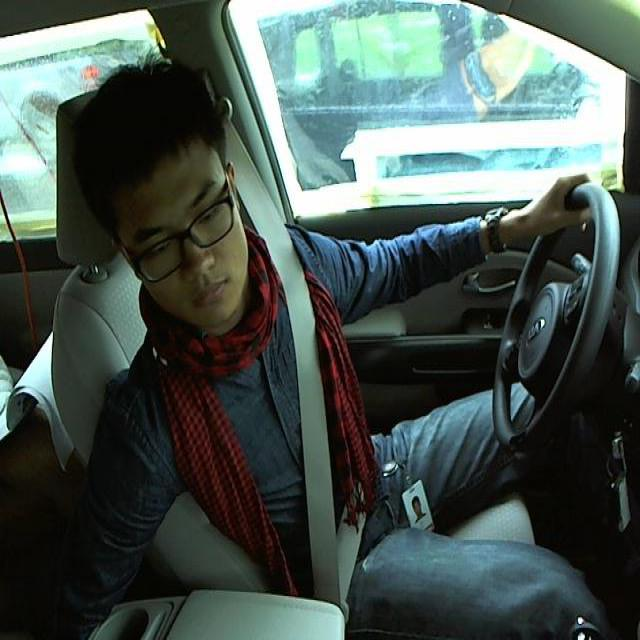seatbelt: (271, 232, 380, 588)
